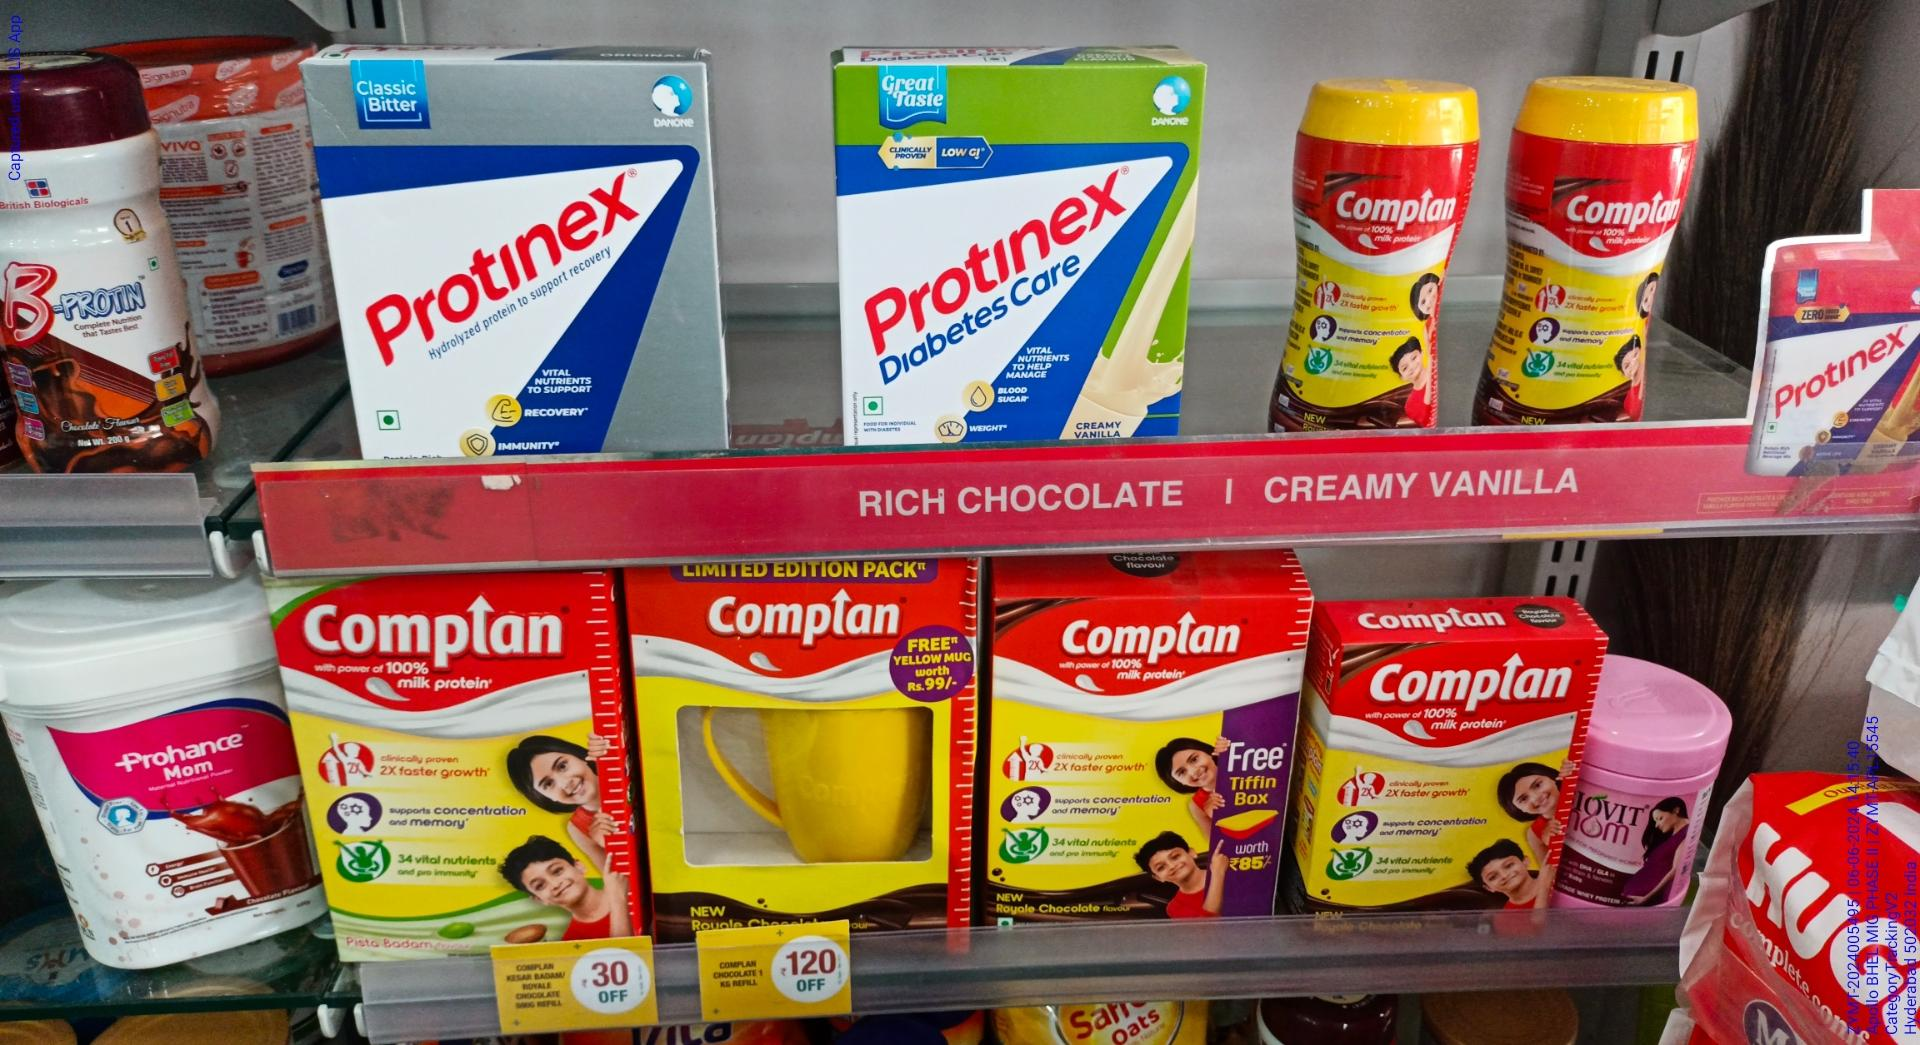COMPLAN_CHOCOLATE_200_GMS_JAR: (1270, 58, 1467, 434), (1494, 63, 1695, 421)
